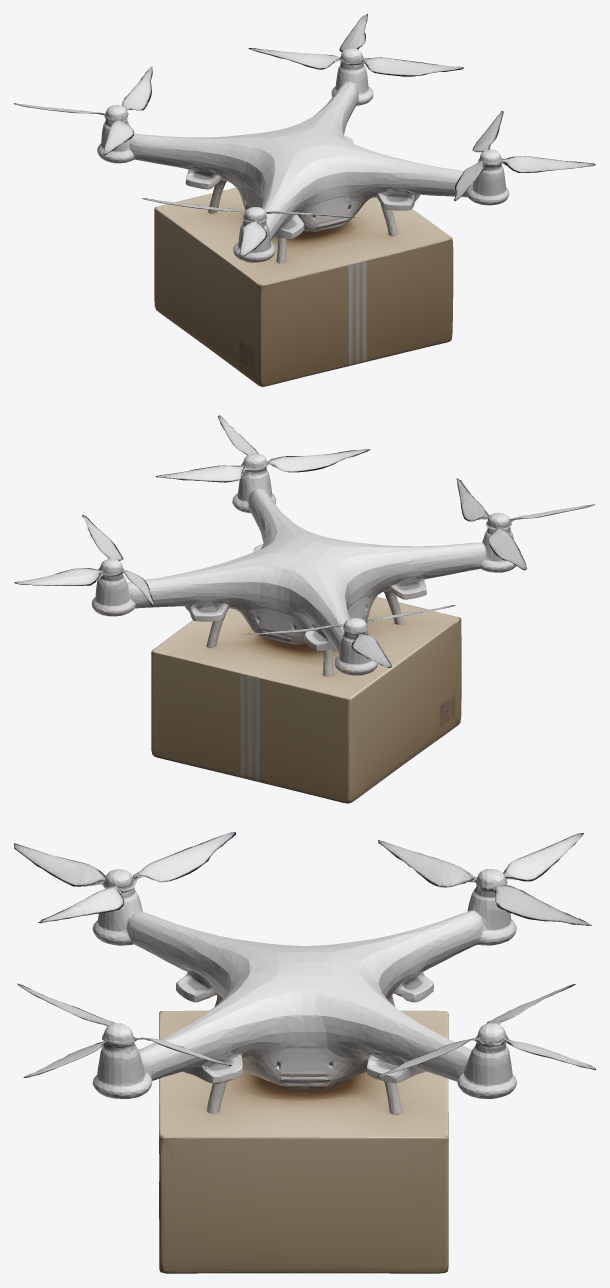
Rendered from drone.fbx.
The picture shows the model from 3 angles, top to bottom: view 1: azimuth 30°, elevation 25°; view 2: azimuth 150°, elevation 25°; view 3: azimuth 270°, elevation 25°; orthographic projection. The views are drawn at different scales.
Visible parts, largest first — view 1: world; view 2: world; view 3: world.
Boxes of the visible parts, x1,y1,x2,y2 form: world: [14, 14, 595, 386]; world: [14, 415, 594, 803]; world: [14, 832, 595, 1273].
Bounding box in the file's own units: 0.9989 × 0.4997 × 0.9994.
Materials: 1 (1 with a texture image).
